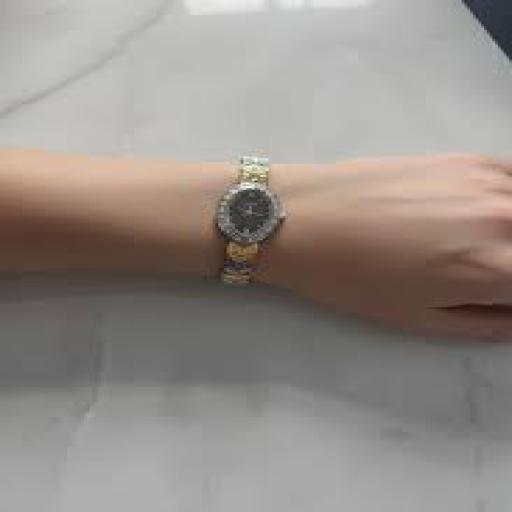KolSaati: (180, 140, 320, 294)
